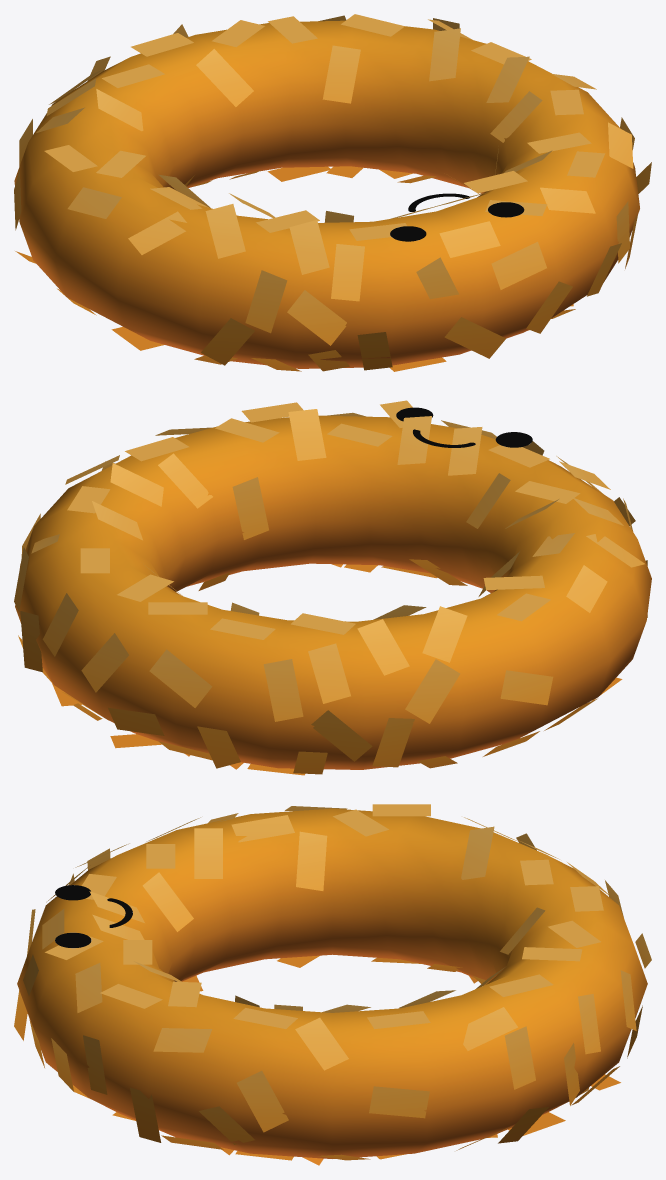
File: onion_ring_smile.fbx
3 views of the same model, one above another, from view 1: azimuth 30°, elevation 25°; view 2: azimuth 150°, elevation 25°; view 3: azimuth 270°, elevation 25° (orthographic).
Visible parts, largest first — view 1: onion_ring_smile; view 2: onion_ring_smile; view 3: onion_ring_smile.
Boxes of the visible parts, <box> form: onion_ring_smile: <box>14,14,651,371</box>; onion_ring_smile: <box>14,400,651,775</box>; onion_ring_smile: <box>14,804,651,1165</box>.
Bounding box in the file's own units: 48.6 × 49.16 × 14.05.
